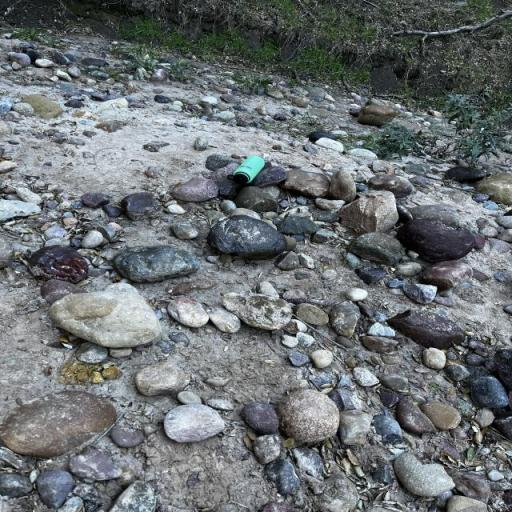bottle: (227, 155, 265, 185)
